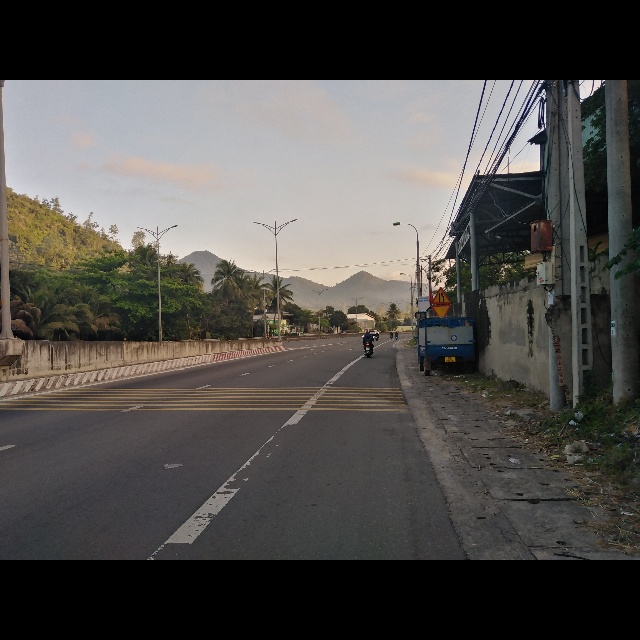Giao nhau với đường ưu tiên: (432, 305, 451, 320)
Đường bị hẹp bên phải: (432, 286, 452, 304)
